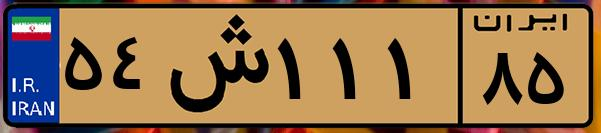1: (270, 28, 330, 110), (385, 28, 445, 110), (330, 28, 385, 110)
4: (110, 28, 158, 98)
5: (57, 26, 110, 100), (525, 38, 570, 115)
8: (475, 38, 525, 113)
ش: (158, 12, 270, 120)
